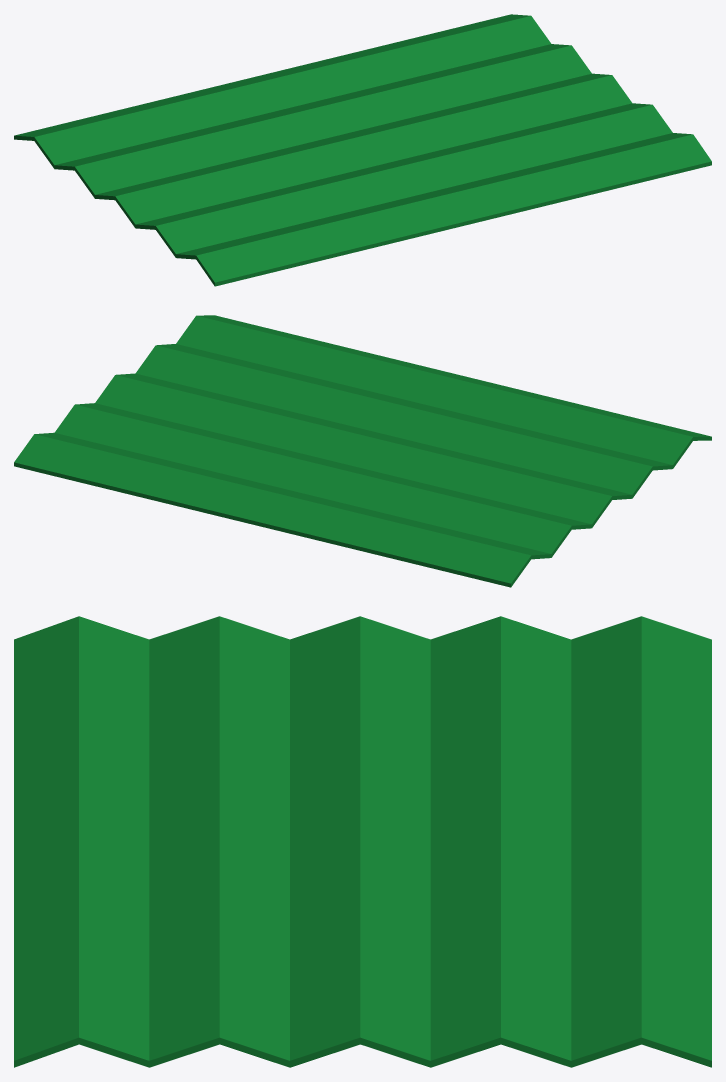
The model's file is SheetMetal_E_1.fbx.
The picture shows the model from 3 angles, top to bottom: view 1: azimuth 30°, elevation 25°; view 2: azimuth 150°, elevation 25°; view 3: azimuth 270°, elevation 25°; orthographic projection. The views are drawn at different scales.
Visible parts, largest first — view 1: SheetMetal_E_1; view 2: SheetMetal_E_1; view 3: SheetMetal_E_1.
Boxes of the visible parts, x1,y1,x2,y2 form: SheetMetal_E_1: (14, 14, 711, 286); SheetMetal_E_1: (14, 315, 711, 587); SheetMetal_E_1: (14, 616, 711, 1067).
Size of the model in its own units: 137 by 4.58 by 96.05.
